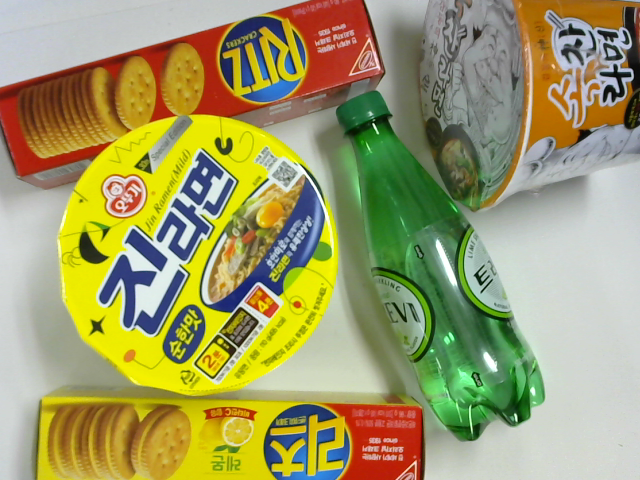Hejangchan: (412, 1, 639, 216)
Jinlamyeon_Mild_Taste_Large_Cup: (77, 134, 325, 379)
Ritz_Cracker: (5, 1, 385, 195)
Ritz_Remon_96g: (25, 395, 442, 480)
Treviraim_500ml: (317, 80, 552, 419)
